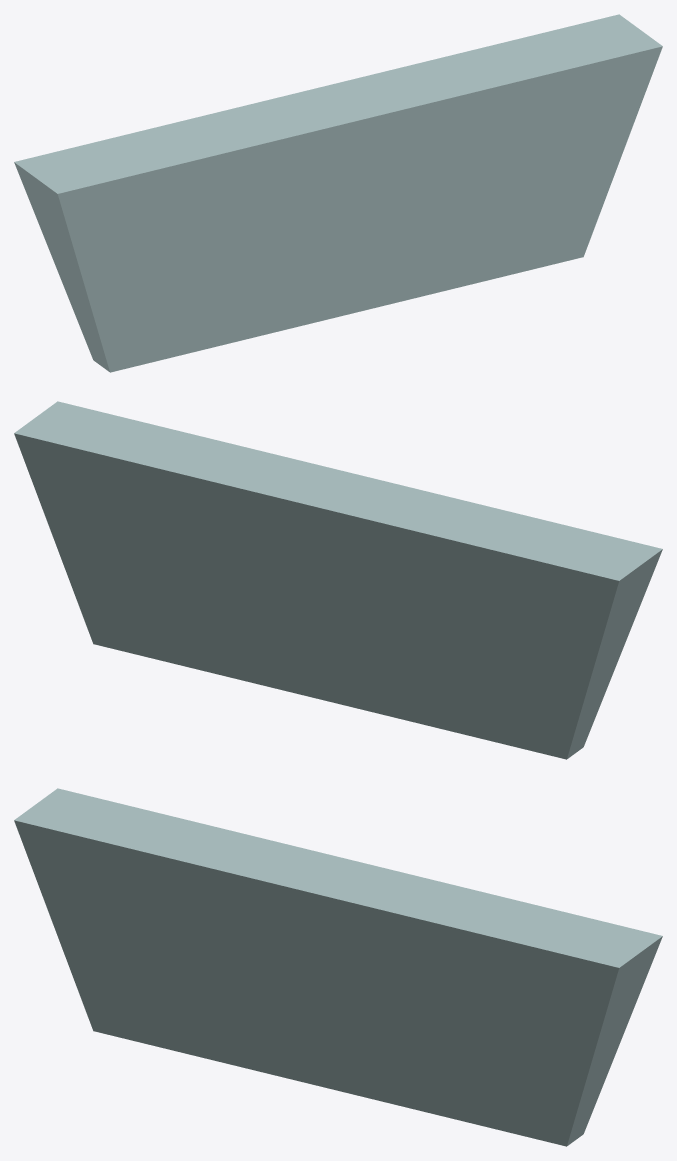
The model's file is duanmian3.glb.
The picture shows the model from 3 angles, top to bottom: view 1: azimuth 30°, elevation 25°; view 2: azimuth 150°, elevation 25°; view 3: azimuth 330°, elevation 25°; orthographic projection.
Visible parts, largest first — view 1: Cube; view 2: Cube; view 3: Cube.
Part boxes in pixels (bbox=[...]): Cube: bbox=[14, 14, 662, 372]; Cube: bbox=[14, 401, 662, 759]; Cube: bbox=[14, 788, 662, 1146].
Bounding box in the file's own units: 6.19 × 2 × 0.7745.
1 material, 1 textured.
